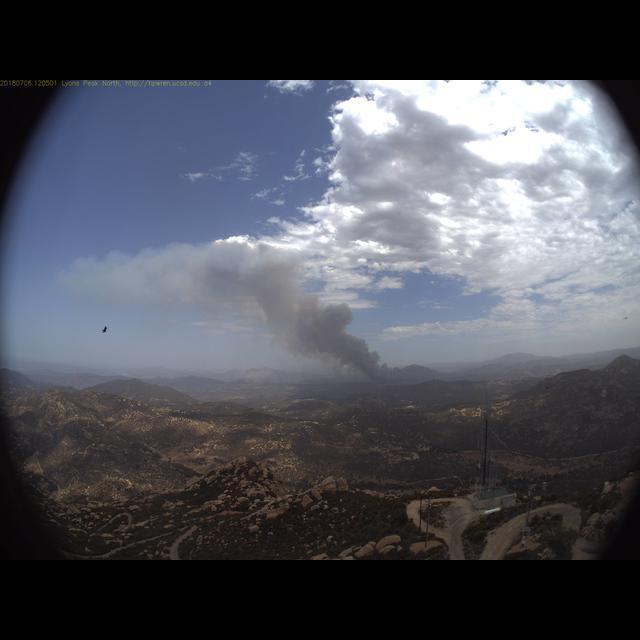Smoke: (59, 235, 413, 398)
